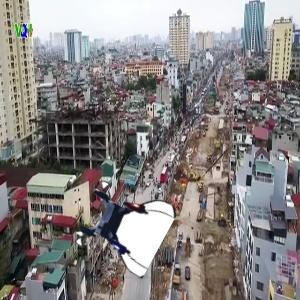drone: (78, 182, 167, 271)
